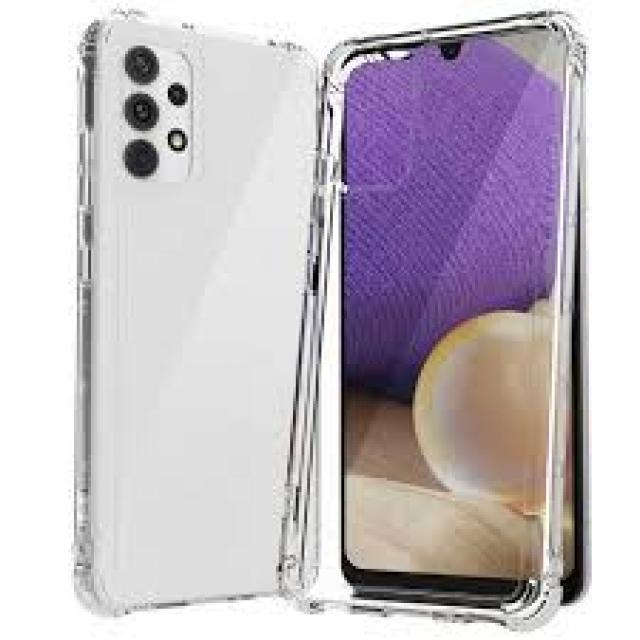Mobile: (72, 10, 326, 618), (342, 19, 597, 624)
